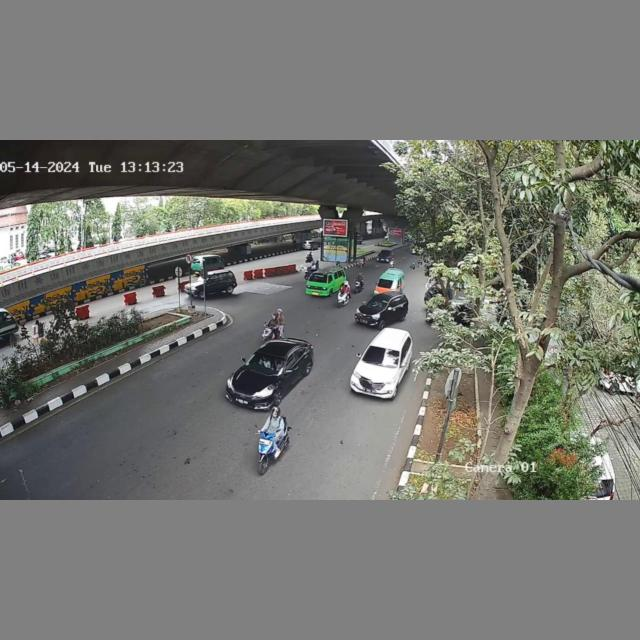windshield: (246, 351, 286, 375), (361, 347, 400, 368)
